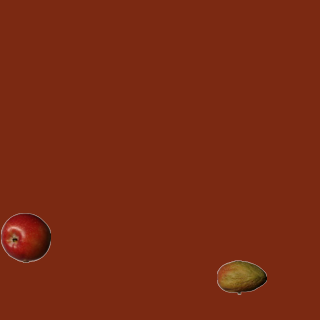Apple Braeburn: (0, 212, 50, 262)
Papaya: (216, 252, 266, 302)
